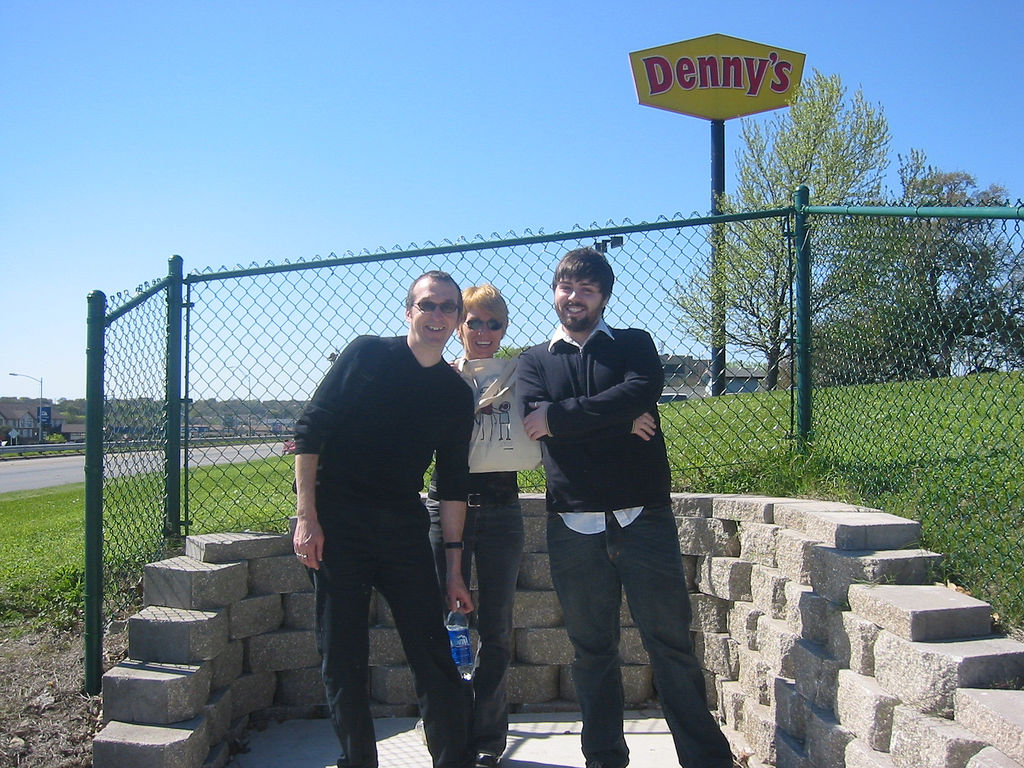head: (545, 243, 617, 345)
